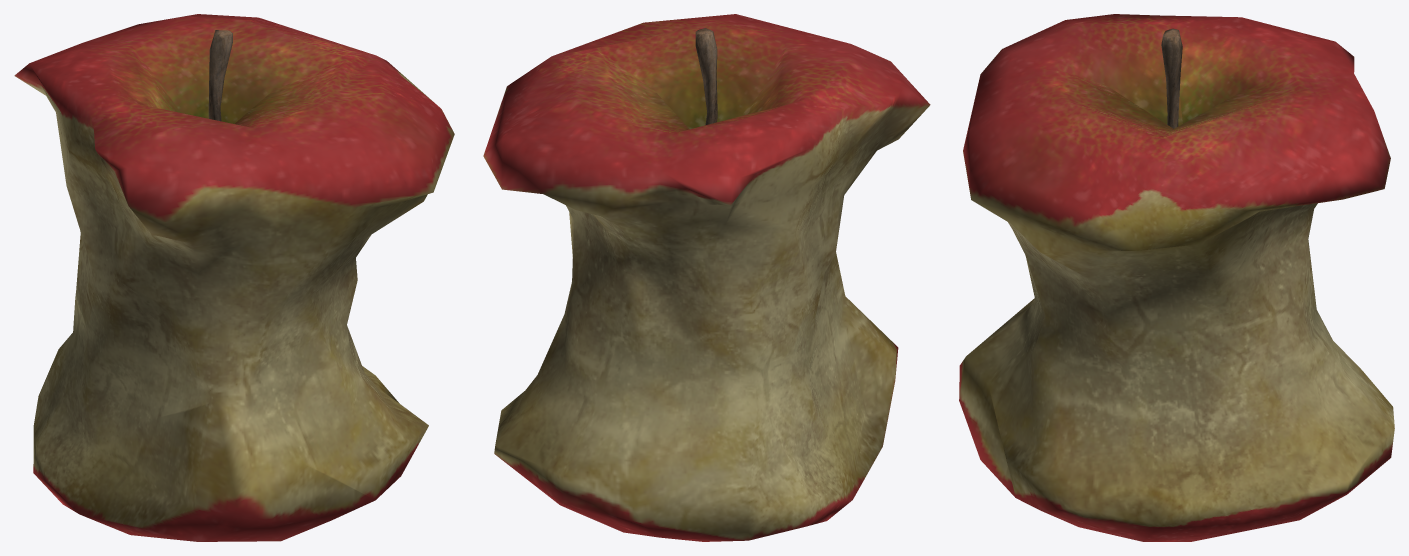
Rendered from SM_Apple_C.fbx.
The picture shows the model from 3 angles, left to right: view 1: azimuth 30°, elevation 25°; view 2: azimuth 150°, elevation 25°; view 3: azimuth 270°, elevation 25°; orthographic projection.
Visible parts, largest first — view 1: SM_Apple_C_LOD0; view 2: SM_Apple_C_LOD0; view 3: SM_Apple_C_LOD0.
Part boxes in pixels (x1,y1,x2,y2): SM_Apple_C_LOD0: (14,14,454,541); SM_Apple_C_LOD0: (483,14,930,541); SM_Apple_C_LOD0: (959,14,1394,541).
Bounding box in the file's own units: 7.52 × 8.1 × 9.52.
1 material, 1 textured.
